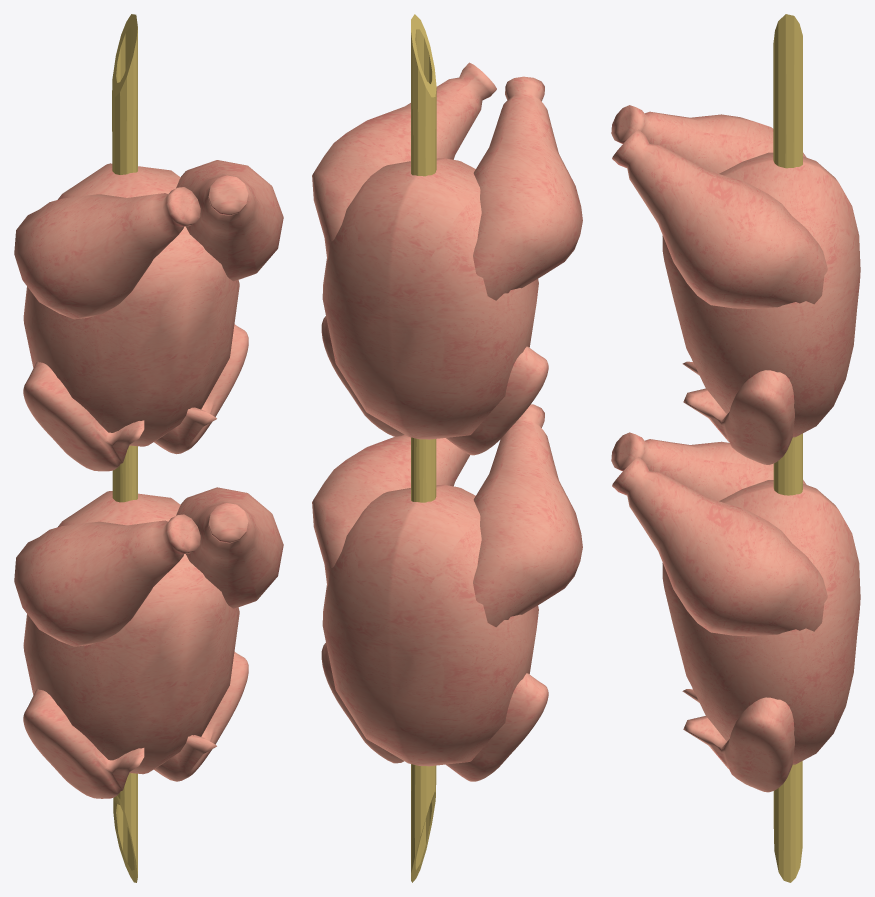
The model's file is Pole_Bamboo_TwoChickenRaw.glb.
3 views of the same model, side by side, from view 1: azimuth 30°, elevation 25°; view 2: azimuth 150°, elevation 25°; view 3: azimuth 270°, elevation 25° (orthographic).
Parts seen in each view (by area): view 1: Chicken Raw.001, Chicken Raw, Cylinder; view 2: Chicken Raw.001, Chicken Raw, Cylinder; view 3: Chicken Raw.001, Chicken Raw, Cylinder.
Part boxes in pixels (bbox=[...]): Chicken Raw.001: bbox=[14, 160, 283, 471]; Chicken Raw: bbox=[14, 487, 283, 798]; Cylinder: bbox=[112, 14, 137, 882]; Chicken Raw.001: bbox=[312, 62, 582, 455]; Chicken Raw: bbox=[312, 404, 582, 781]; Cylinder: bbox=[411, 14, 436, 882]; Chicken Raw.001: bbox=[611, 105, 860, 464]; Chicken Raw: bbox=[611, 432, 860, 792]; Cylinder: bbox=[773, 14, 802, 882].
Bounding box in the file's own units: 0.9061 × 3.02 × 0.785.
3 materials, 2 textured.
